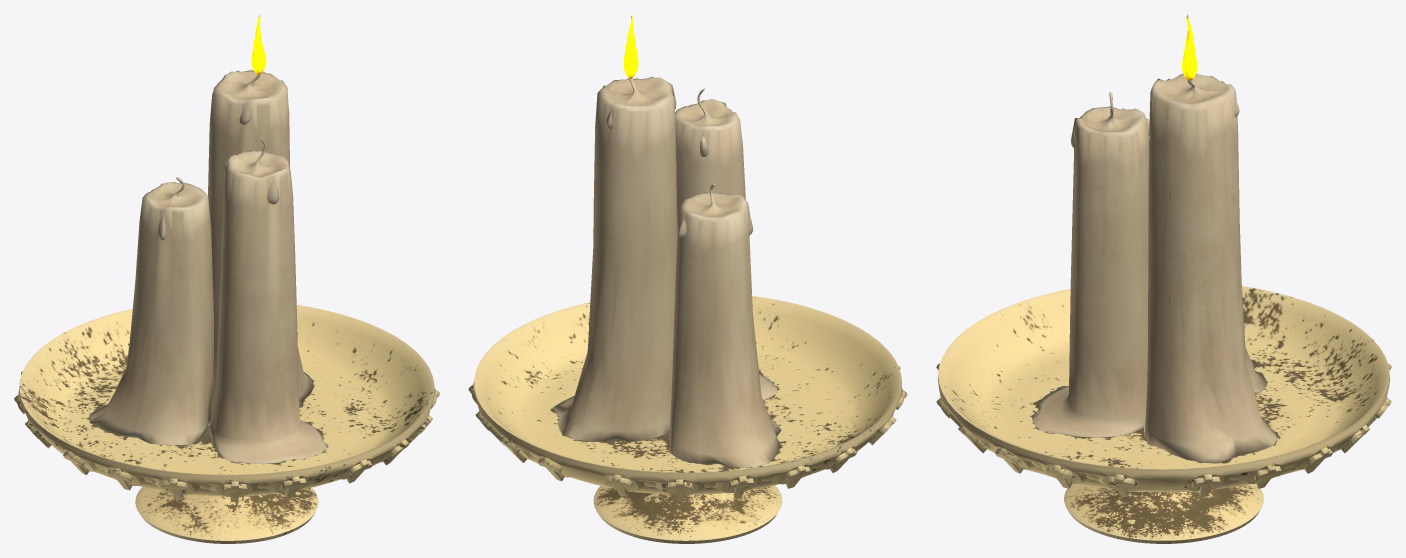
3 views of the same model, side by side, from view 1: azimuth 30°, elevation 25°; view 2: azimuth 150°, elevation 25°; view 3: azimuth 270°, elevation 25° (orthographic). The views are drawn at different scales.
Parts seen in each view (by area): view 1: candles, candlestick, fire; view 2: candles, candlestick, fire; view 3: candles, candlestick, fire.
Boxes of the visible parts, x1,y1,x2,y2 form: candles: (89, 70, 326, 463); candlestick: (14, 305, 439, 543); fire: (251, 14, 266, 74); candles: (553, 76, 781, 467); candlestick: (468, 296, 907, 543); fire: (623, 14, 638, 78); candles: (1032, 73, 1276, 463); candlestick: (936, 286, 1391, 543); fire: (1182, 14, 1196, 80).
Bounding box in the file's own units: 91.37 × 114 × 91.97.
3 materials, 3 textured.
